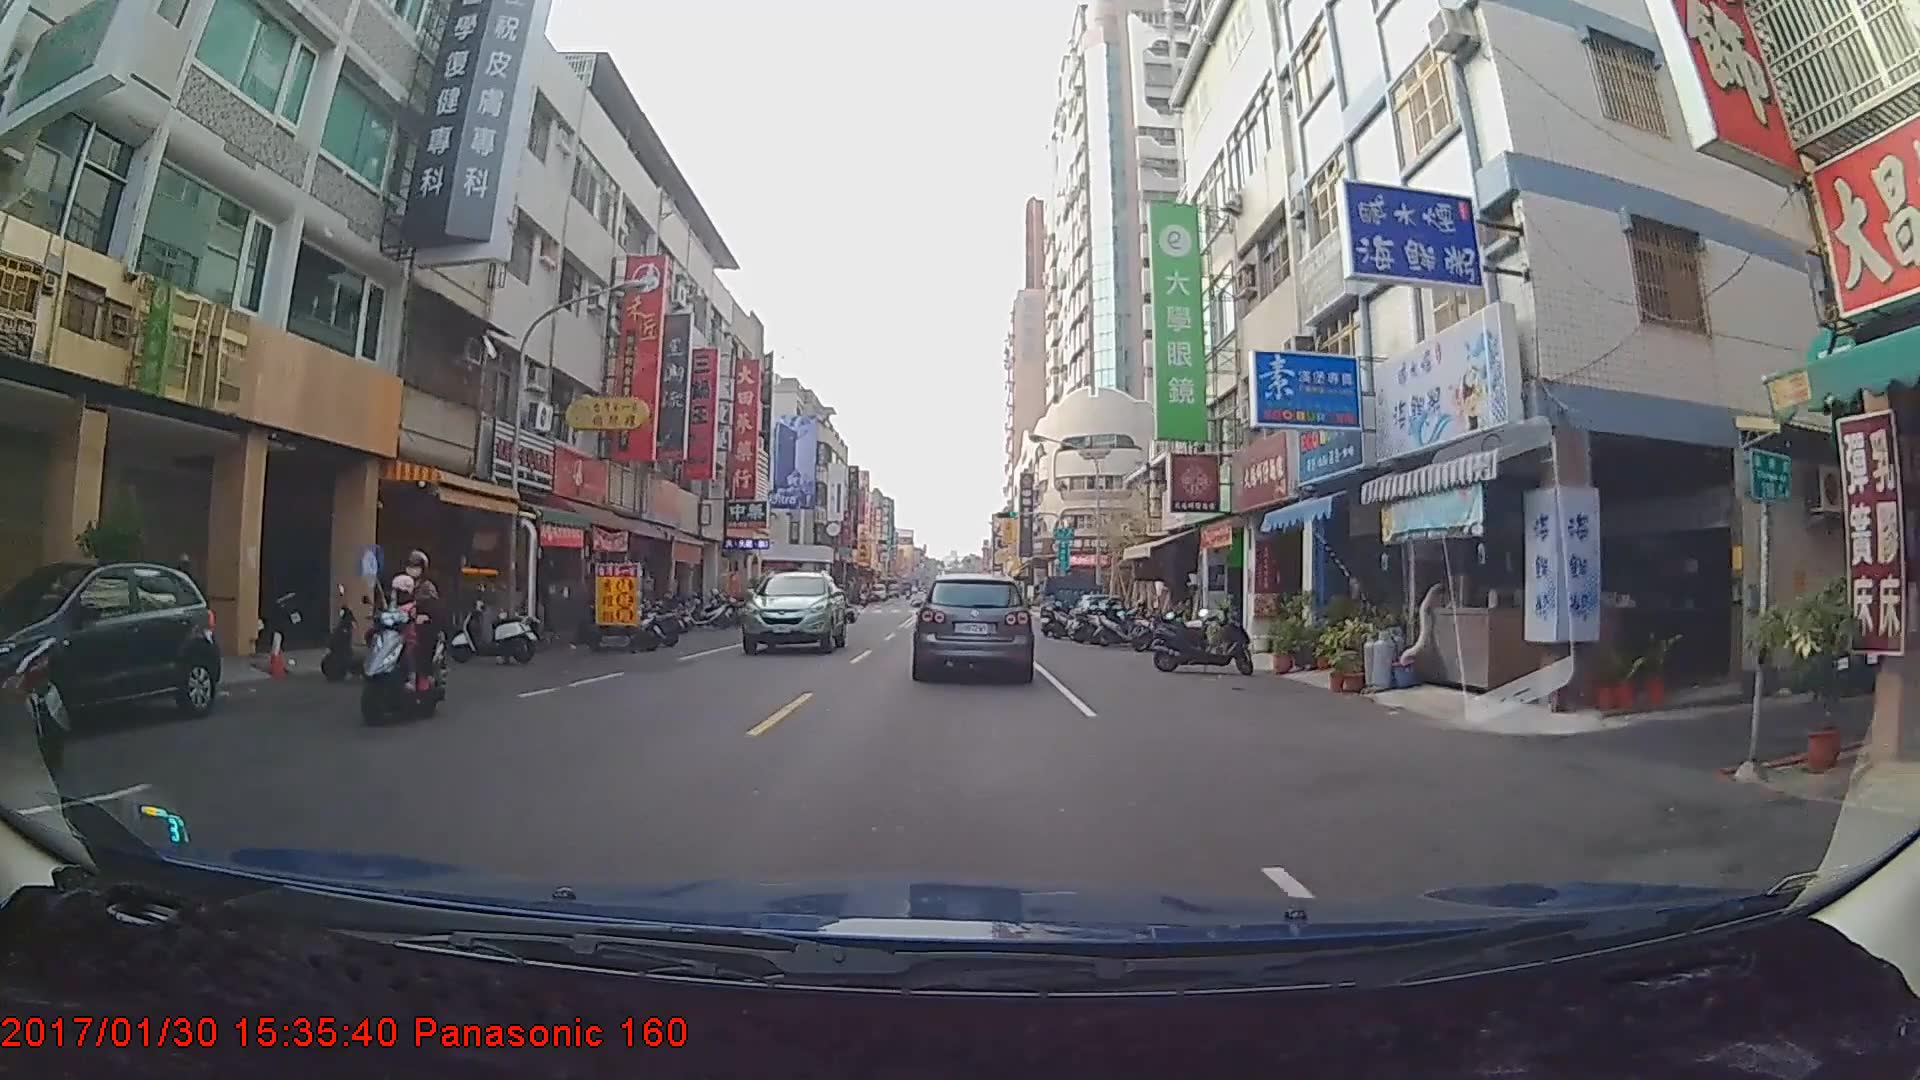rider: (351, 545, 448, 726)
vehicle: (914, 572, 1032, 680), (741, 568, 849, 656), (1039, 573, 1105, 631)
